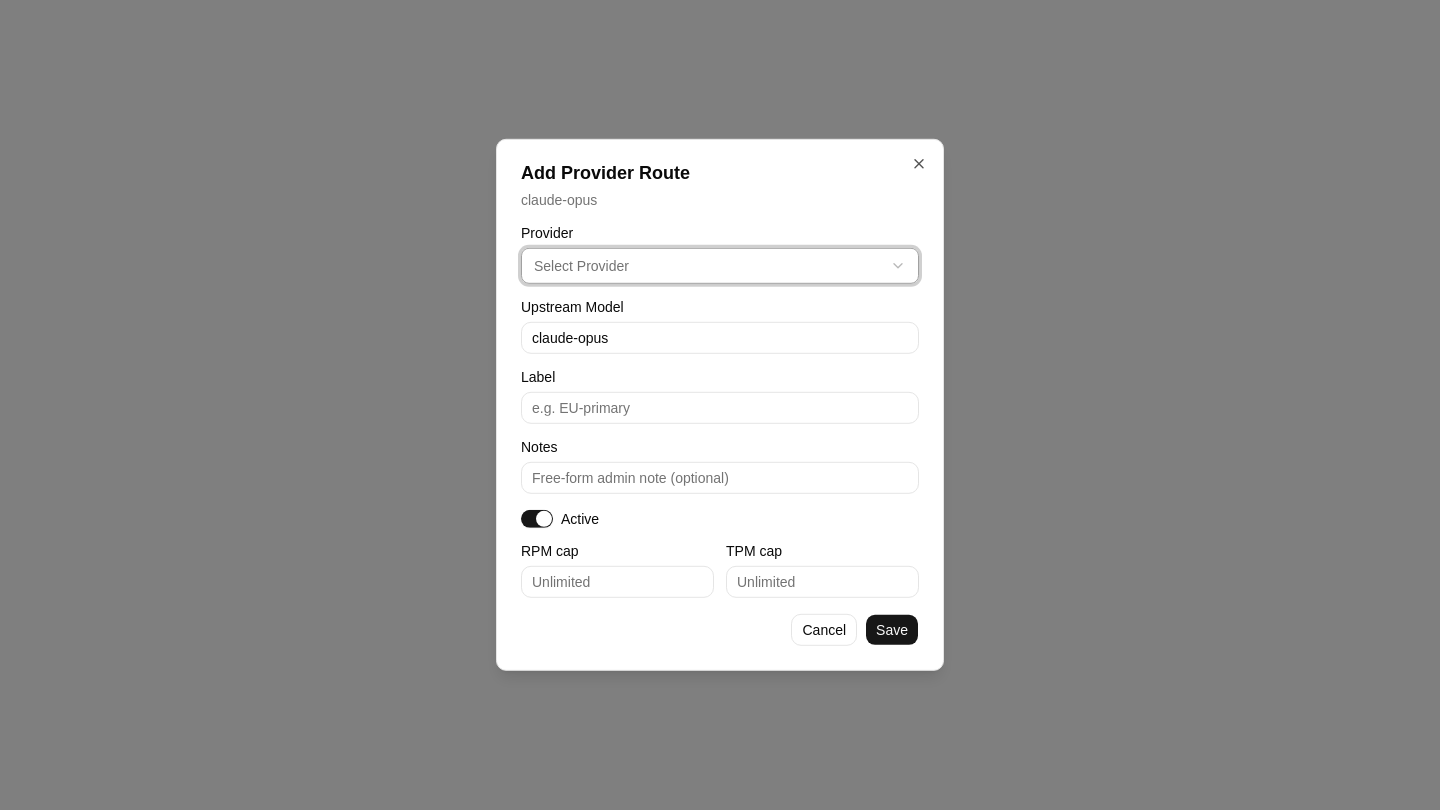
Scenario: RouteEditorDialog › offers no way past any other error
Click the dropdown labelled "Provider" at (581, 266), box [521,248,919,284]
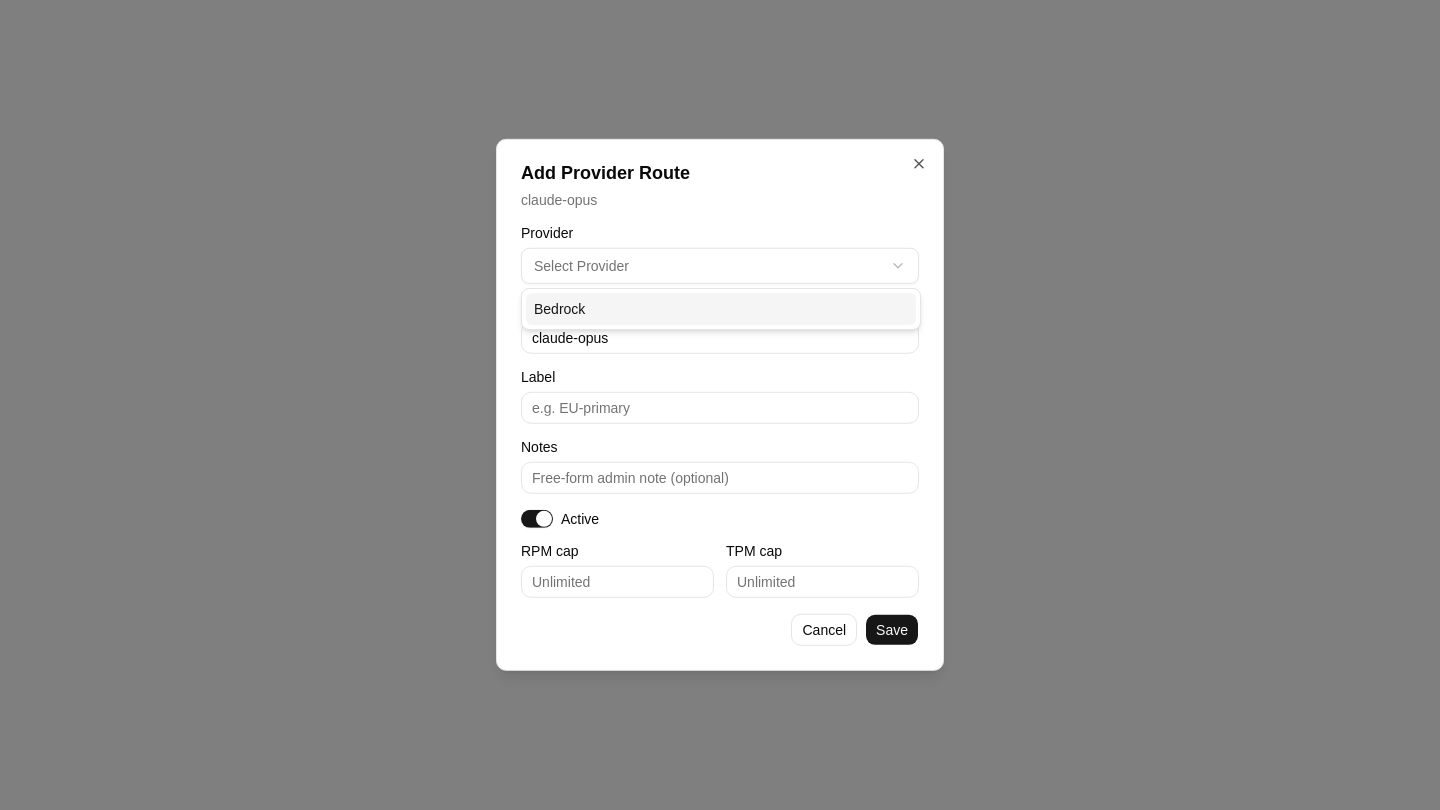
Click the option "Bedrock" at (560, 309), box [526,293,916,325]
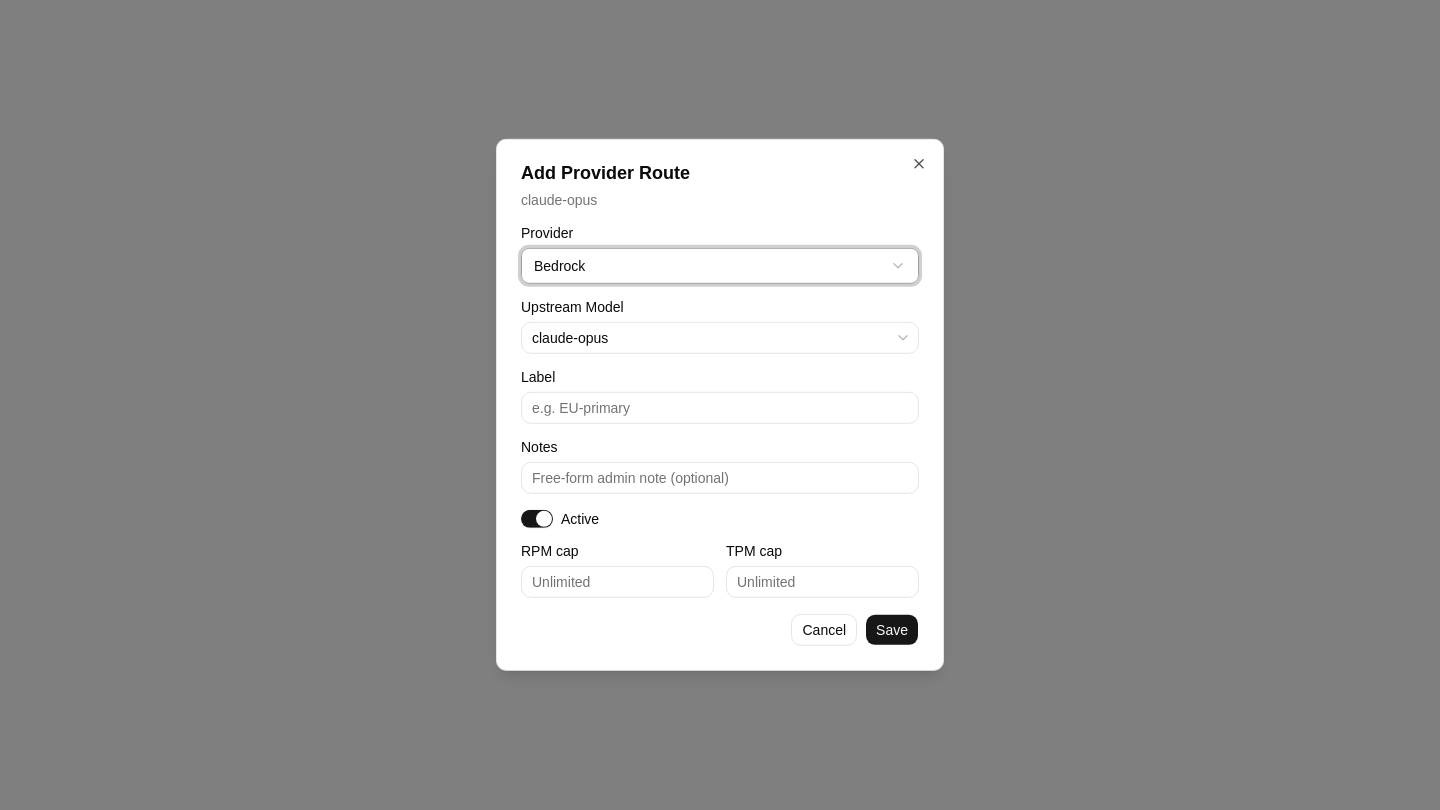
Replace the text in the dropdown labelled "Upstream Model" with "amazon.nova-lite-v1:0" at (720, 338), box [521,322,919,354]
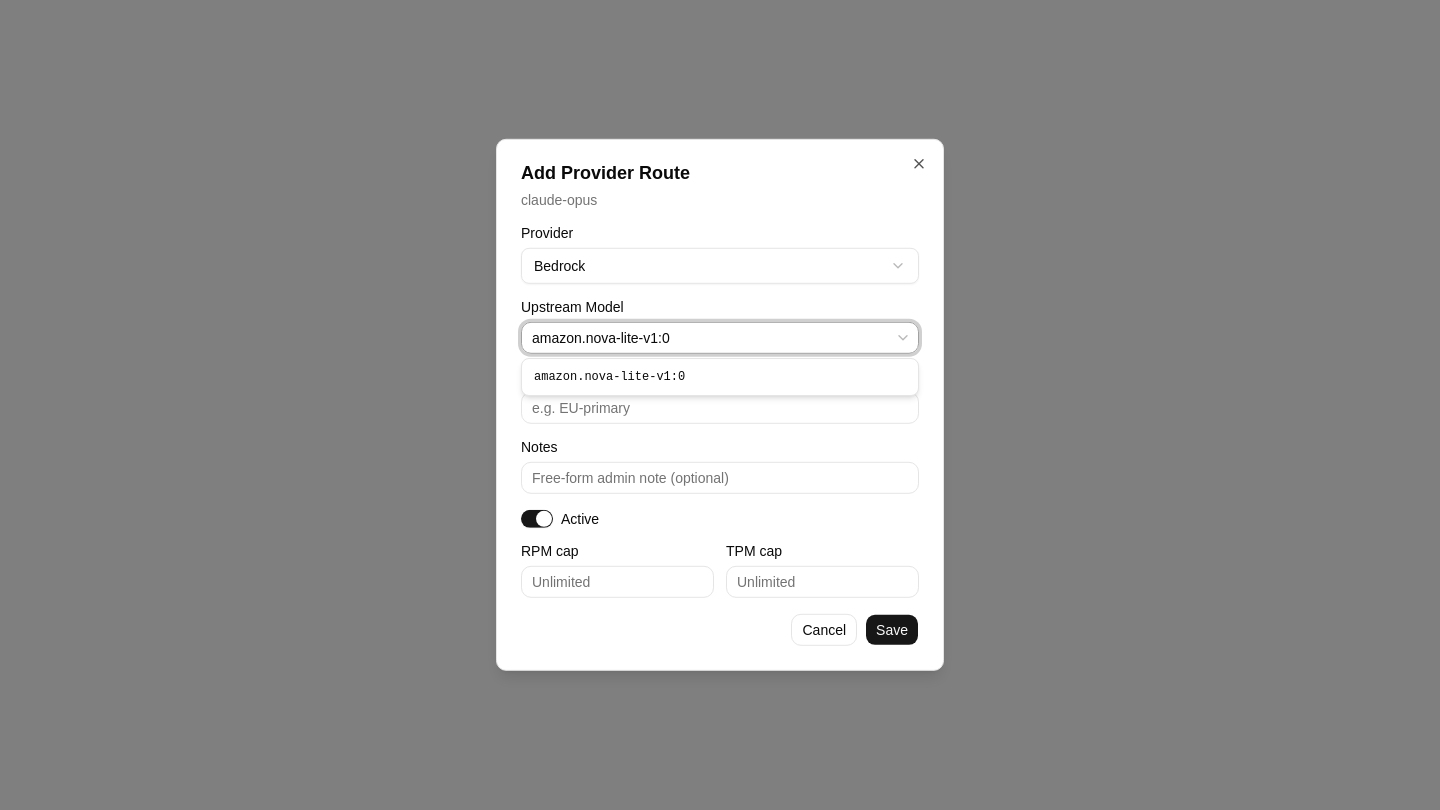
Click the button "Save" at (892, 630), box [865,614,919,646]
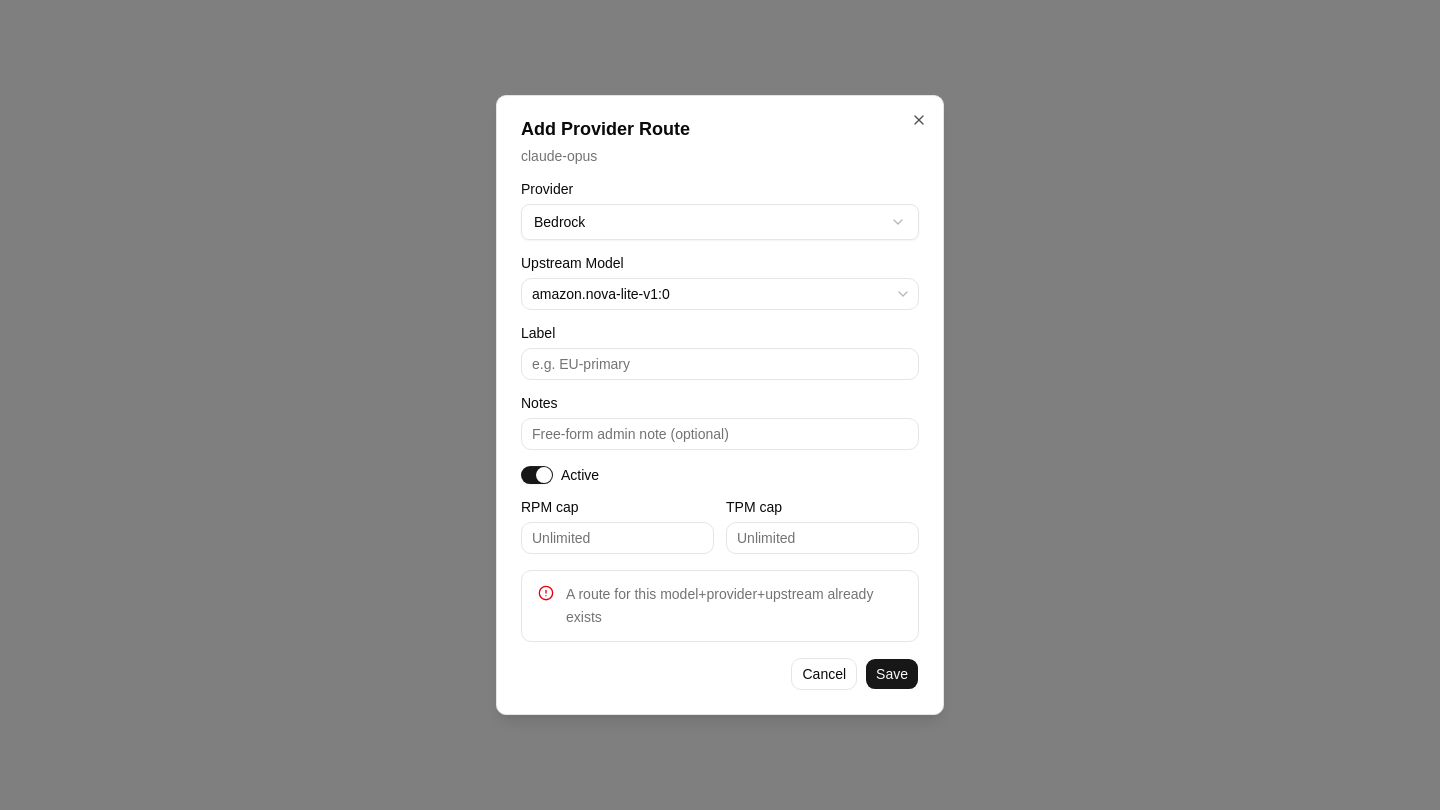
Expected: the text "A route for this model+provider+upstream already exists" is shown, [566,583,902,629]
